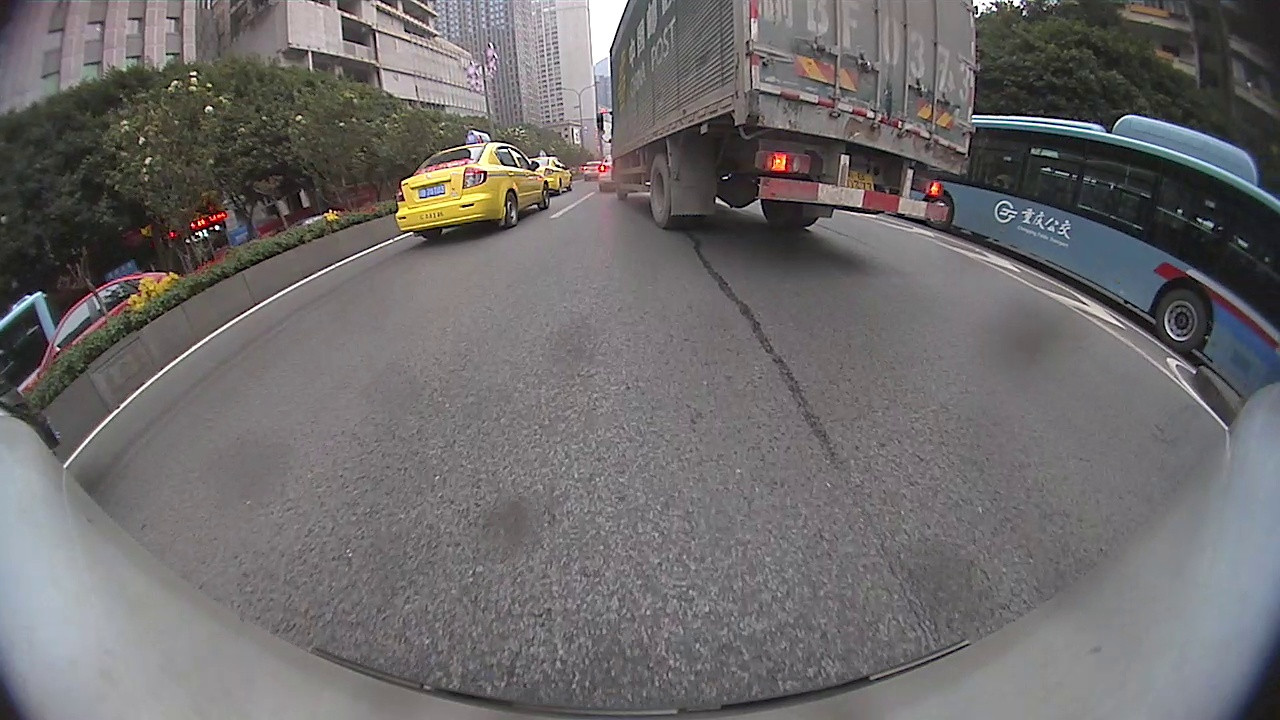bus: (931, 114, 1279, 396), (0, 292, 52, 393)
car: (393, 126, 548, 240), (21, 274, 174, 369), (527, 158, 573, 197)
front: (925, 195, 955, 230), (538, 183, 550, 210)
rear: (649, 152, 705, 231), (1154, 286, 1209, 354), (503, 192, 519, 229)
truck: (591, 2, 979, 227)
